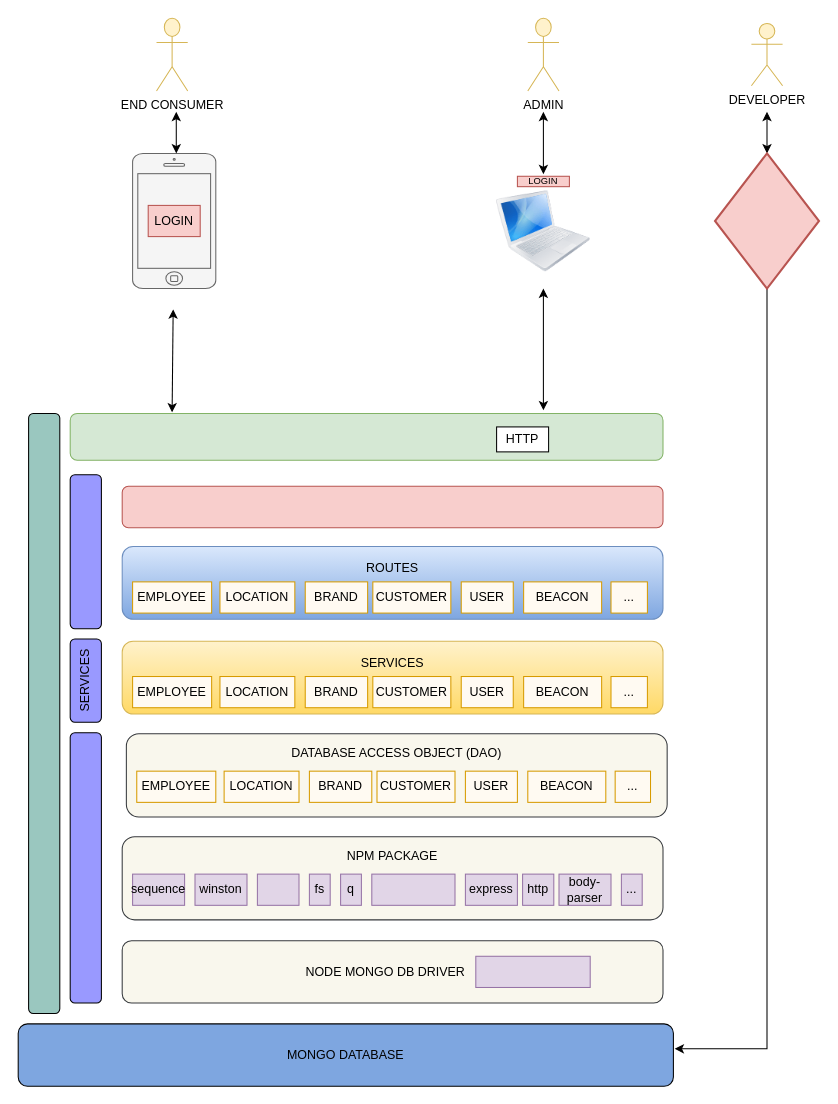
Image size: 838x1104. Some labels were removed from this diagram. The shapes that lost their labels are listed below. From the top down, each one's box as (x1, y1, x2, y2) in pixels, then its label:
(132, 152, 216, 289): IOS / ANDROID
(713, 152, 820, 289): ACCESS CONTROL CHECK
(69, 412, 663, 460): REST API
(121, 485, 663, 528): SECURITY AND ACCESS CONTROL MECHANISMS
(69, 474, 101, 629): CONTROLLERS
(28, 412, 60, 1013): NODE ENGINE
(69, 732, 101, 1003): MODELS
(256, 873, 299, 905): path
(371, 873, 455, 905): node-mailer
(475, 955, 590, 987): mongoose
